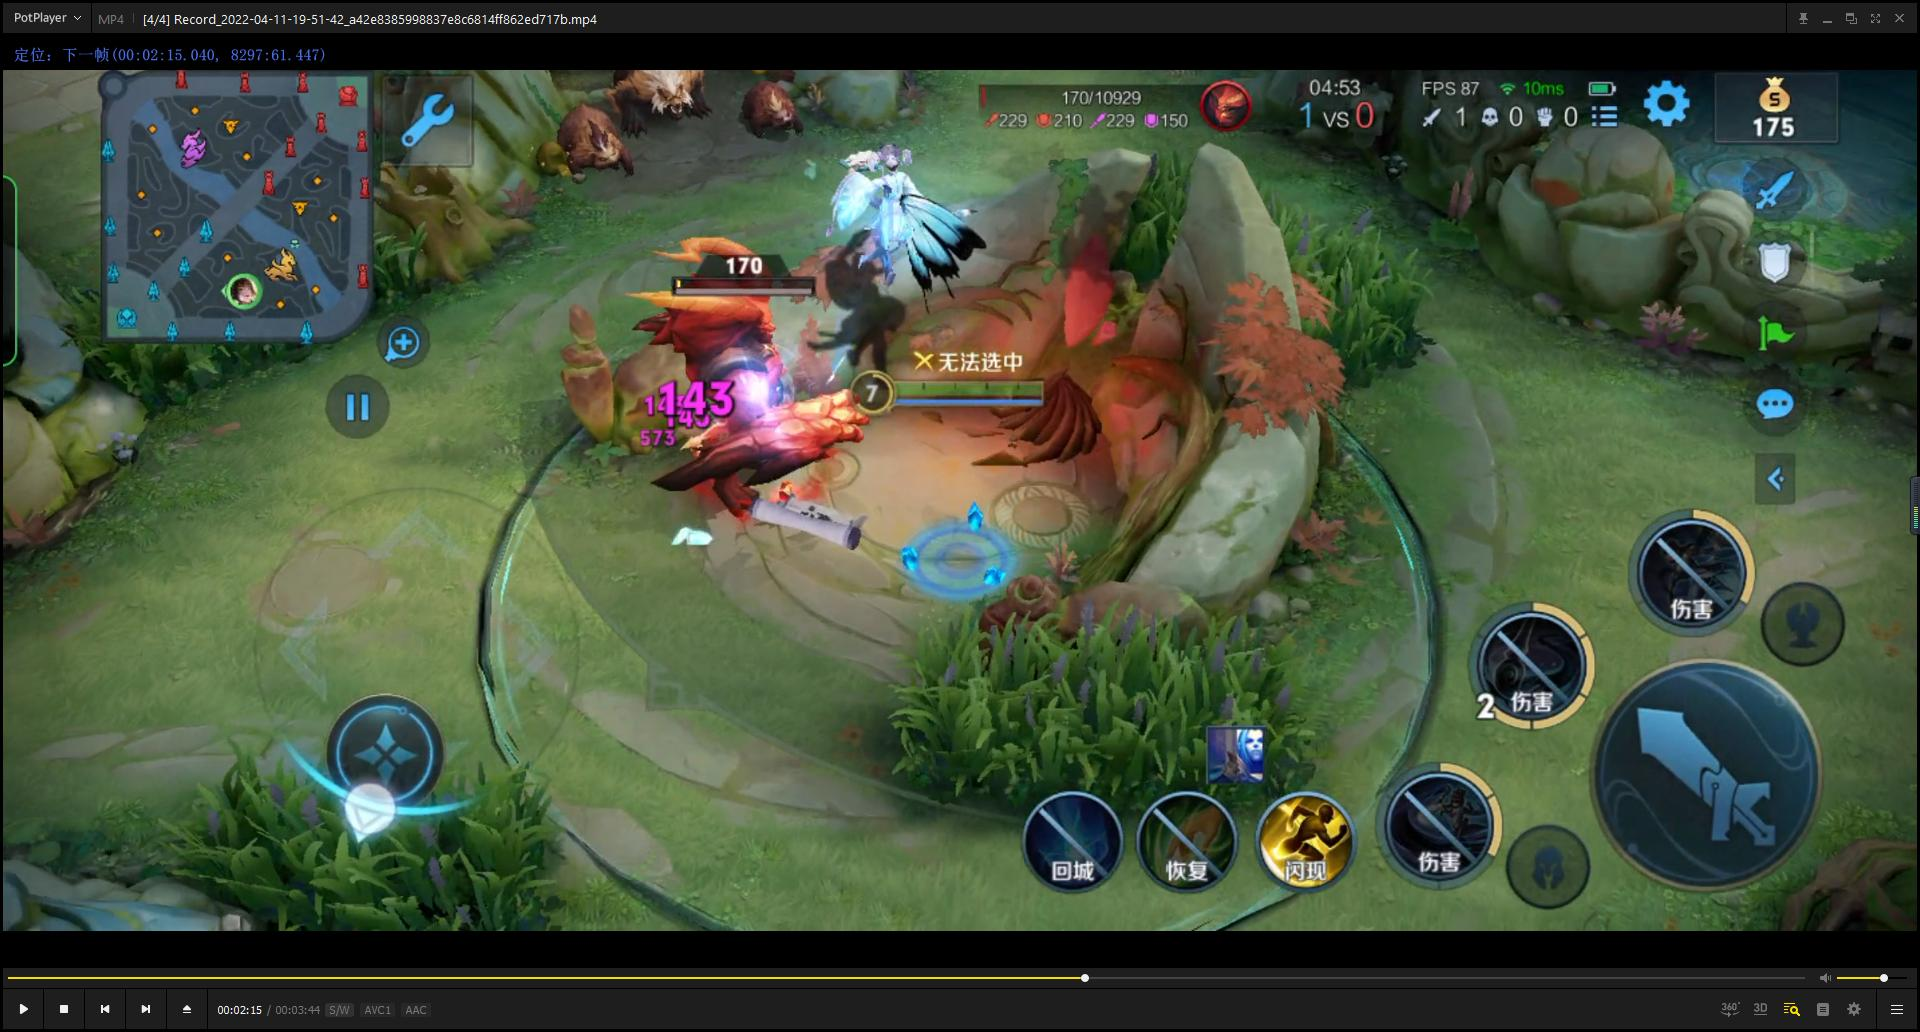Buff: (583, 205, 887, 527)
Hero: (826, 122, 1078, 677)
Pig: (540, 93, 649, 205), (577, 72, 718, 136), (734, 75, 828, 158)
